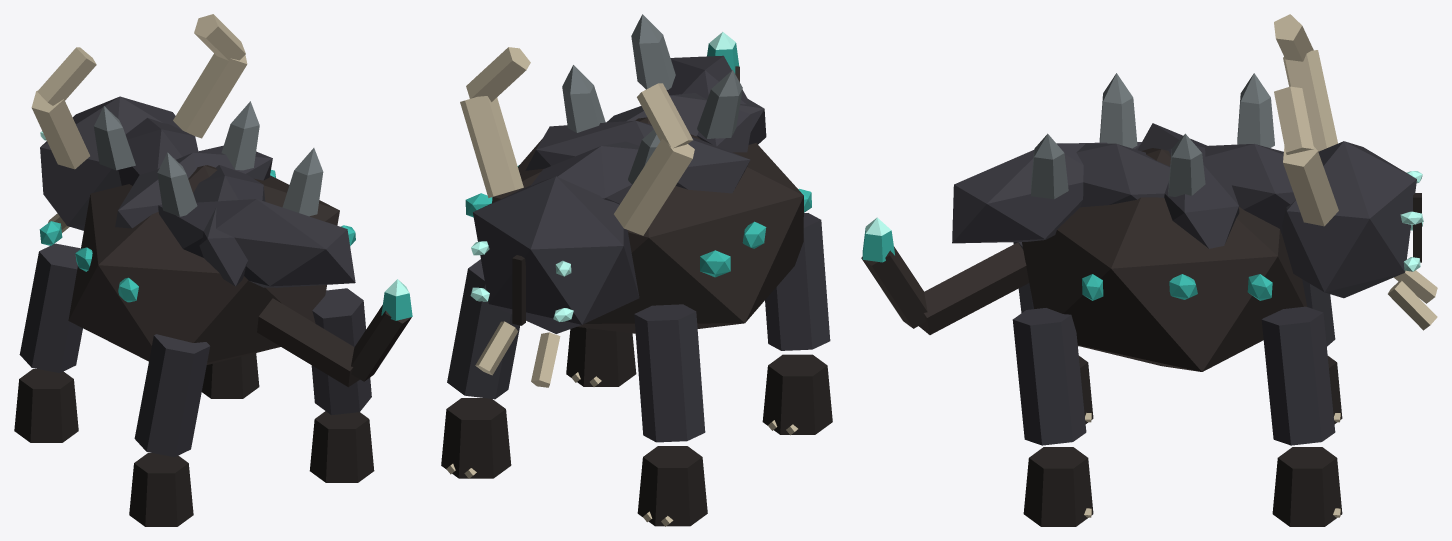
The model's file is Monster_3.fbx.
The picture shows the model from 3 angles, left to right: view 1: azimuth 30°, elevation 25°; view 2: azimuth 150°, elevation 25°; view 3: azimuth 270°, elevation 25°; orthographic projection. The views are drawn at different scales.
Parts seen in each view (by area): view 1: Body, Head, LegBR, LegFR, LegBL, Tail, LegFL; view 2: Body, Head, LegFR, LegBR, LegFL, LegBL, Tail; view 3: Body, Head, LegFL, LegBL, Tail, LegFR, LegBR.
Boxes of the visible parts, x1=… form: Body: x1=39, y1=101, x2=355, y2=364; Head: x1=31, y1=14, x2=247, y2=232; LegBR: x1=129, y1=334, x2=210, y2=526; LegFR: x1=14, y1=243, x2=82, y2=442; LegBL: x1=309, y1=288, x2=374, y2=482; Tail: x1=257, y1=279, x2=412, y2=387; LegFL: x1=202, y1=353, x2=259, y2=398; Body: x1=465, y1=14, x2=811, y2=333; Head: x1=460, y1=47, x2=694, y2=387; LegFR: x1=634, y1=304, x2=707, y2=526; LegBR: x1=762, y1=213, x2=832, y2=435; LegFL: x1=441, y1=259, x2=519, y2=478; LegBL: x1=566, y1=327, x2=636, y2=386; Tail: x1=707, y1=32, x2=739, y2=81; Body: x1=952, y1=73, x2=1306, y2=371; Head: x1=1274, y1=14, x2=1437, y2=330; LegFL: x1=1261, y1=306, x2=1342, y2=526; LegBL: x1=1012, y1=308, x2=1093, y2=526; Tail: x1=861, y1=217, x2=1029, y2=334; LegFR: x1=1302, y1=279, x2=1342, y2=423; LegBR: x1=1013, y1=242, x2=1093, y2=423.
Size of the model in its own units: 1.09 by 1.6 by 2.01.
Materials: 1 (1 with a texture image).
